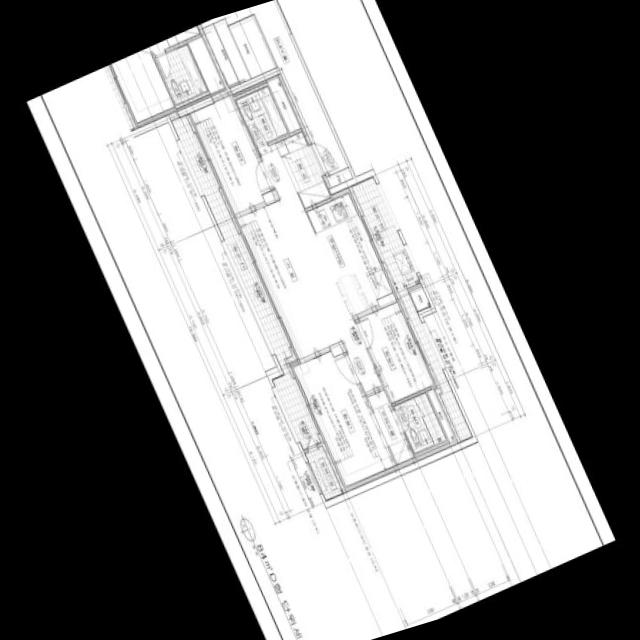background: (25, 0, 615, 640)
space_balconi: (170, 115, 320, 449), (350, 176, 471, 441)
space_bedroom: (289, 350, 396, 491), (187, 95, 272, 215), (355, 300, 436, 402)
space_dressroom: (366, 389, 415, 468)
space_elevator_hall: (200, 0, 347, 176)
space_front: (273, 130, 331, 207)
space_kitchen: (306, 187, 393, 316)
space_living_room: (234, 142, 381, 392)
space_other: (227, 14, 276, 78), (212, 18, 249, 83), (202, 23, 238, 87), (265, 74, 300, 132), (426, 388, 457, 445), (408, 285, 429, 310), (326, 167, 352, 187)
space_outdoor_room: (304, 445, 342, 500)
space_toilet: (234, 85, 288, 147), (392, 391, 446, 453)
